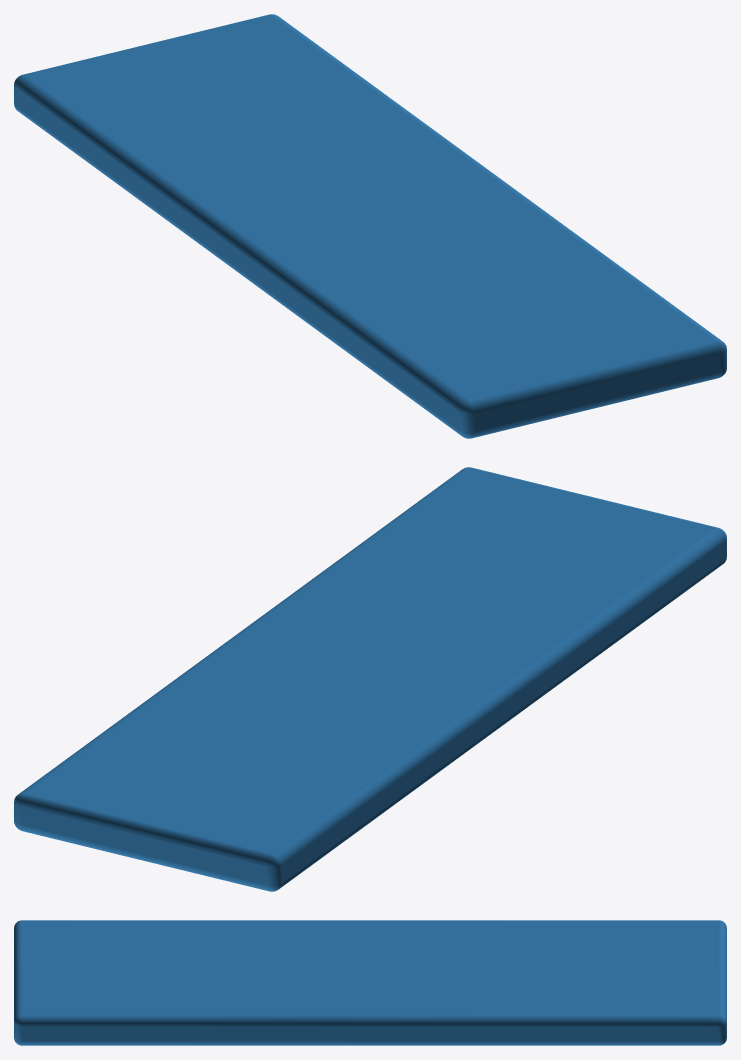
File: hospital bed matrice.glb
3 views of the same model, one above another, from view 1: azimuth 30°, elevation 25°; view 2: azimuth 150°, elevation 25°; view 3: azimuth 270°, elevation 25° (orthographic). The views are drawn at different scales.
Visible parts, largest first — view 1: hospital bed matrice; view 2: hospital bed matrice; view 3: hospital bed matrice.
Part boxes in pixels (x1=…): hospital bed matrice: x1=14, y1=14, x2=726, y2=438; hospital bed matrice: x1=14, y1=467, x2=726, y2=891; hospital bed matrice: x1=14, y1=920, x2=726, y2=1045.
Size of the model in its own units: 0.651 by 0.0863 by 1.92.
